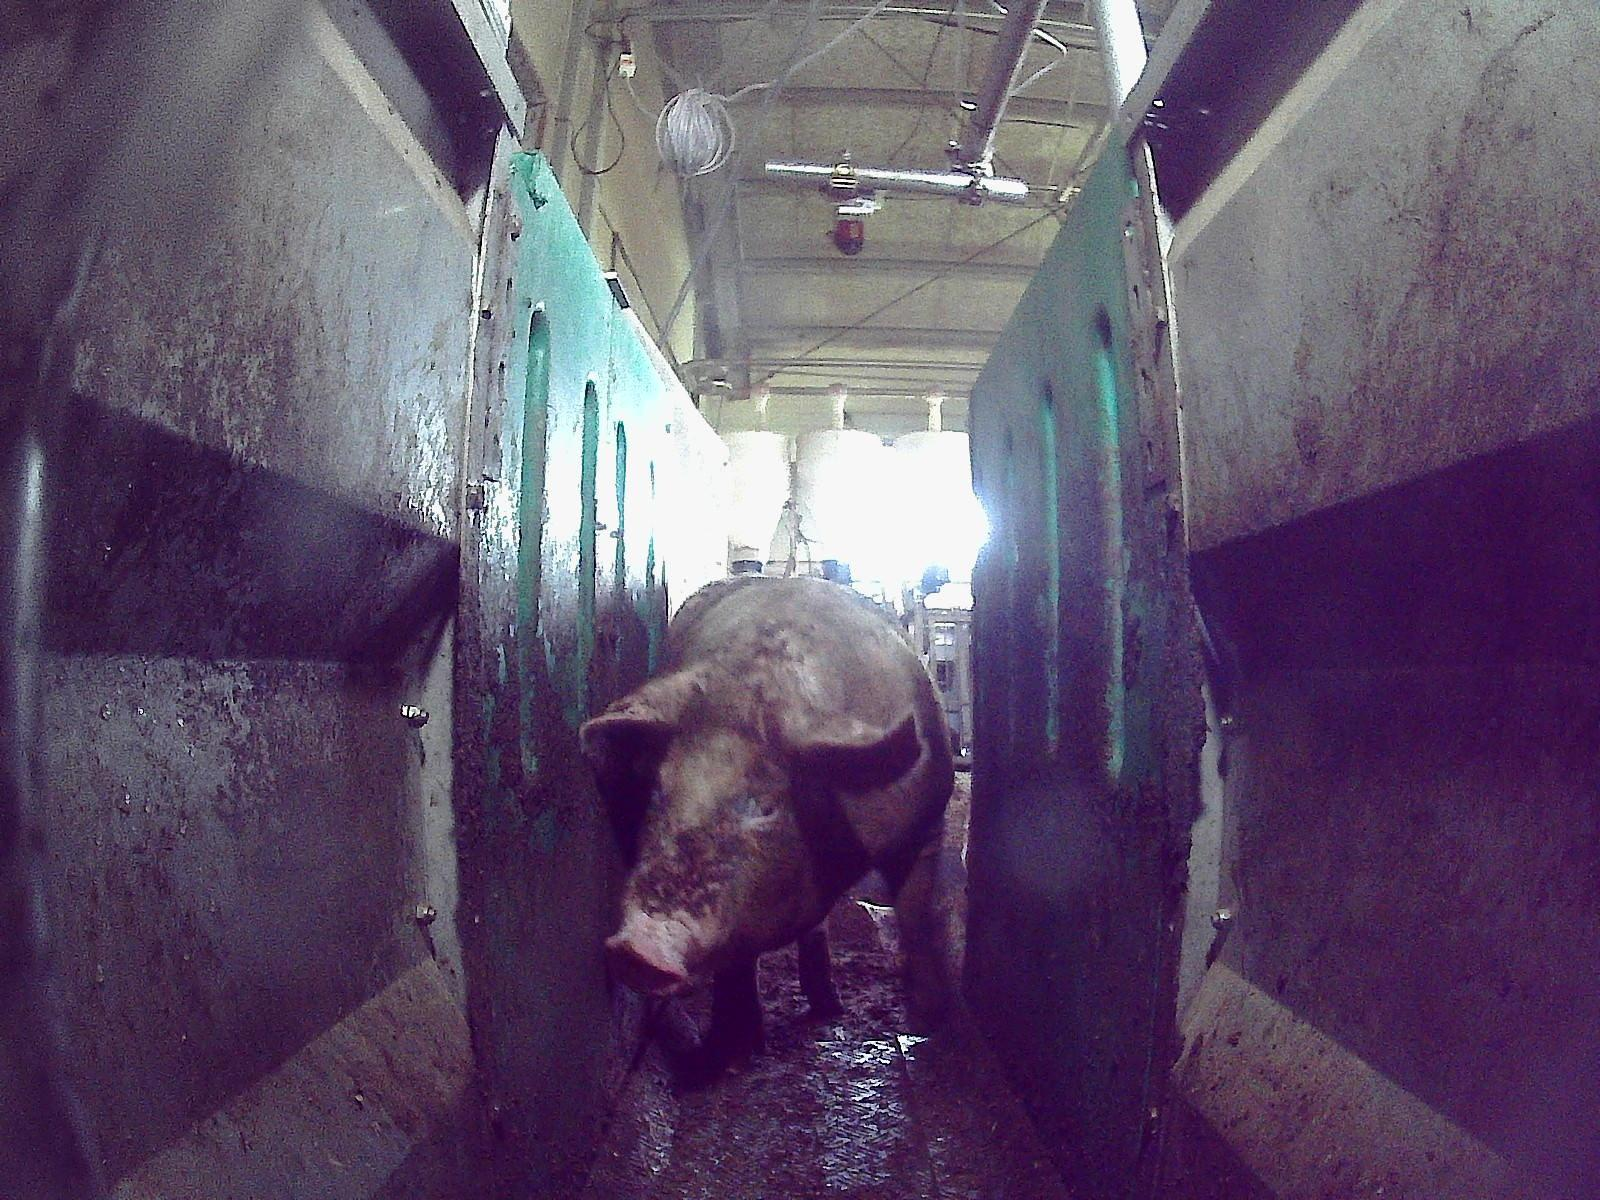Face: (606, 667, 862, 997)
